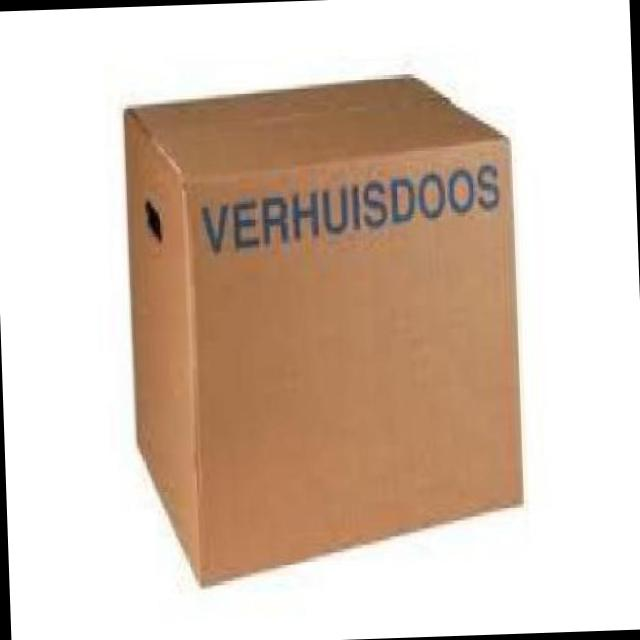box: (123, 72, 525, 591)
normal_hole: (142, 198, 165, 244)
